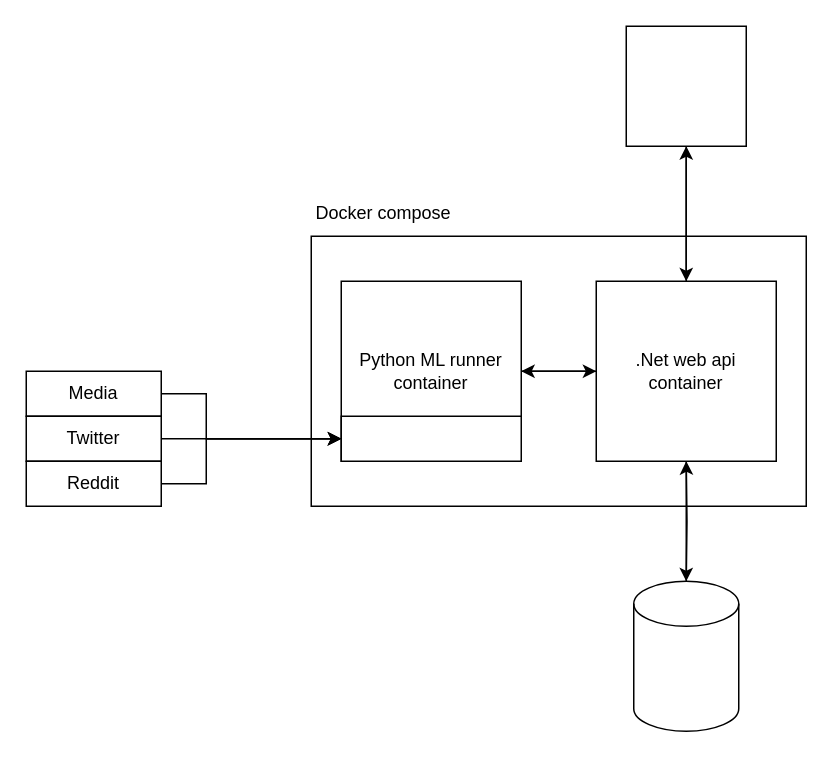
The diagram is 833 pixels wide and 758 high, and some of its shapes have lost their labels. The shapes that lost their labels are listed below. From the top down, each one's centre as x and y in pixels, then its label:
At point 685,85: "React.js frontend".
At point 430,438: "Data grabber".
At point 685,655: "PostgreSQL".
